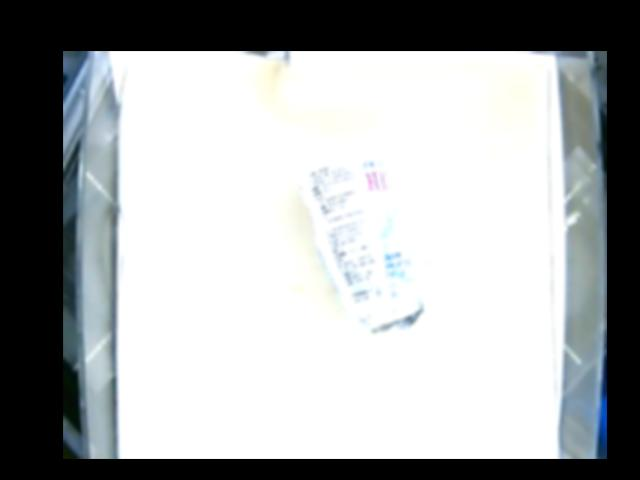Bottle: (299, 142, 424, 334)
